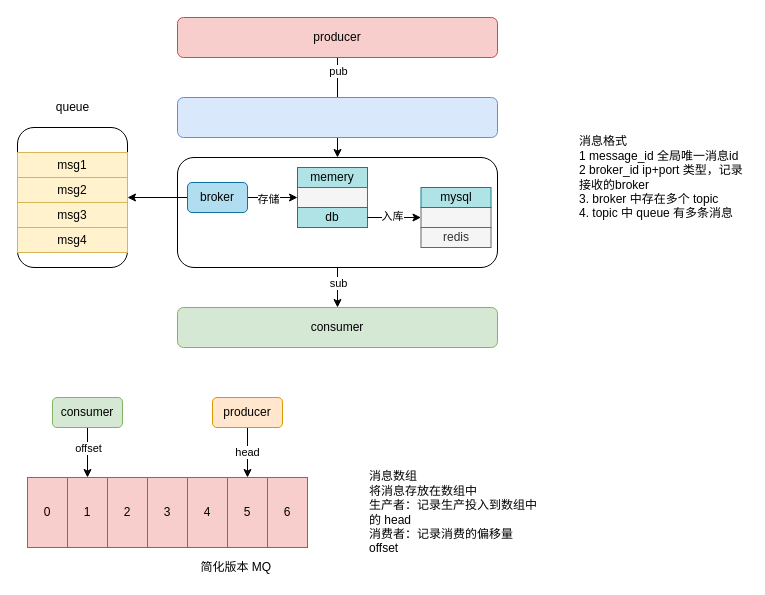
This 765x595 diagram has some shape labels left out. The centre of each missing label's shape, as x and y in pixels:
disk: the point at 332,197
http websocket ...: the point at 337,117
mongo: the point at 455,217
